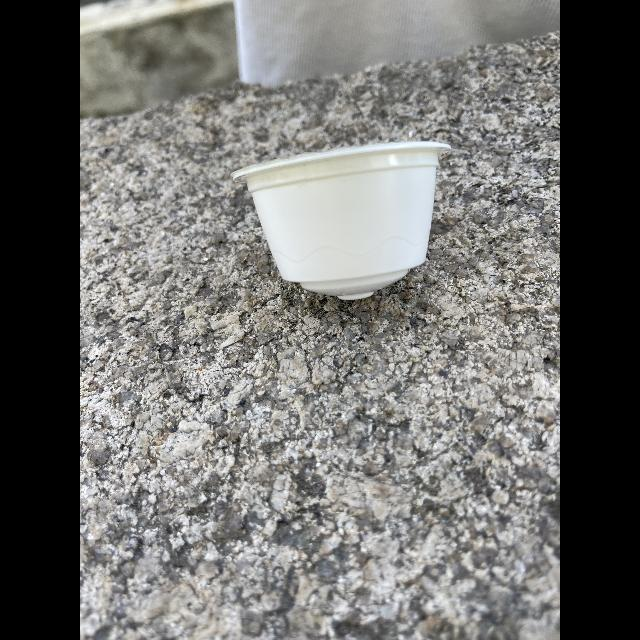intact_capsule: (223, 124, 479, 314)
